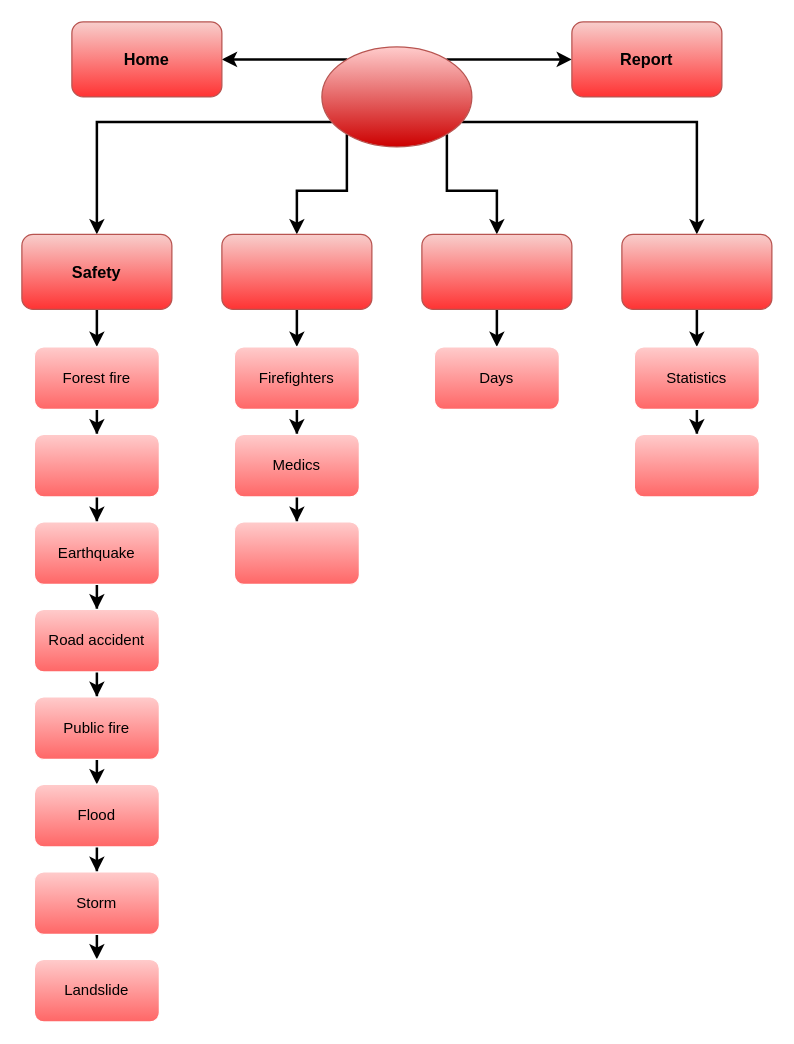
Image size: 794x1044. Some labels were removed from this diagram. The shapes that lost their labels are listed below. From the top down, each one's box as (x1, y1, x2, y2) in pixels, then its label:
(321, 46, 472, 147): Menu
(221, 233, 372, 309): Employees
(421, 233, 572, 309): Calendar
(621, 233, 772, 309): More information
(33, 433, 159, 497): Fire at home
(633, 433, 759, 497): Equipment
(233, 521, 359, 584): Road assistance
